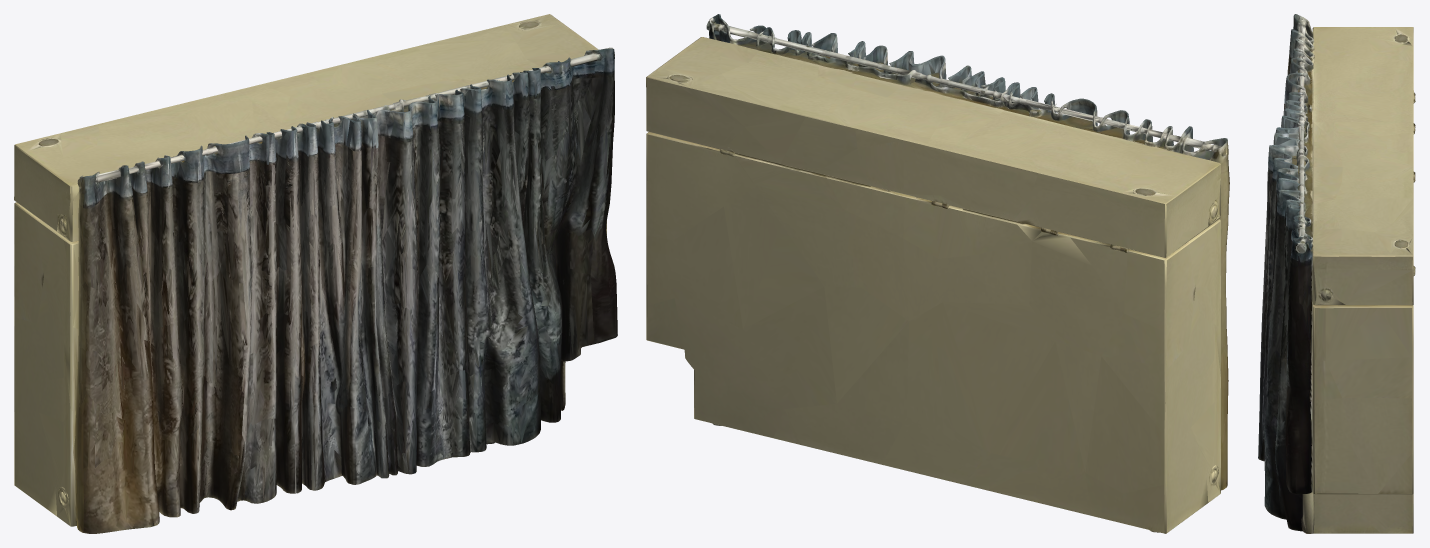
File: cortina.fbx
3 renders of one model, left to right at view 1: azimuth 30°, elevation 25°; view 2: azimuth 150°, elevation 25°; view 3: azimuth 270°, elevation 25°, orthographic. The views are drawn at different scales.
Parts seen in each view (by area): view 1: tripo_node_517a4609; view 2: tripo_node_517a4609; view 3: tripo_node_517a4609.
Boxes of the visible parts, x1,y1,x2,y2 form: tripo_node_517a4609: (14, 14, 617, 533); tripo_node_517a4609: (646, 14, 1229, 533); tripo_node_517a4609: (1258, 14, 1415, 533).
Bounding box in the file's own units: 98.1 × 63.32 × 28.35.
